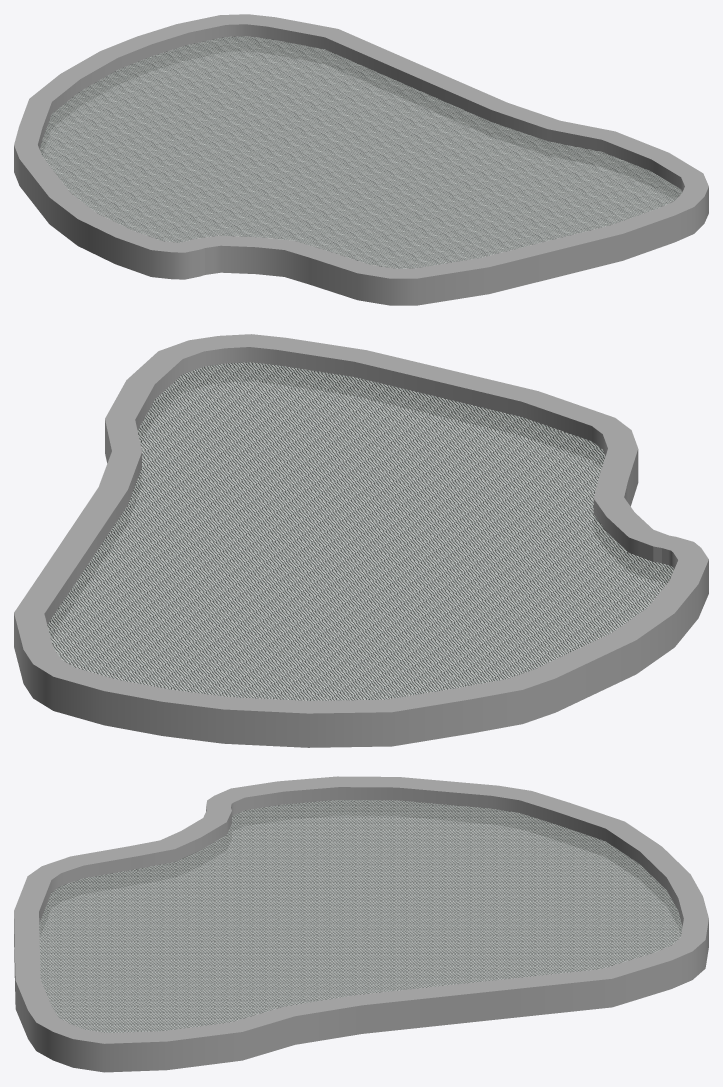
Rendered from build07.fbx.
3 renders of one model, top to bottom at view 1: azimuth 30°, elevation 25°; view 2: azimuth 150°, elevation 25°; view 3: azimuth 270°, elevation 25°, orthographic. The views are drawn at different scales.
Parts seen in each view (by area): view 1: Group1; view 2: Group1; view 3: Group1.
Boxes of the visible parts, x1,y1,x2,y2 form: Group1: (14, 14, 708, 305); Group1: (14, 334, 708, 747); Group1: (14, 776, 708, 1072).
Bounding box in the file's own units: 13794 × 689 × 15153.
